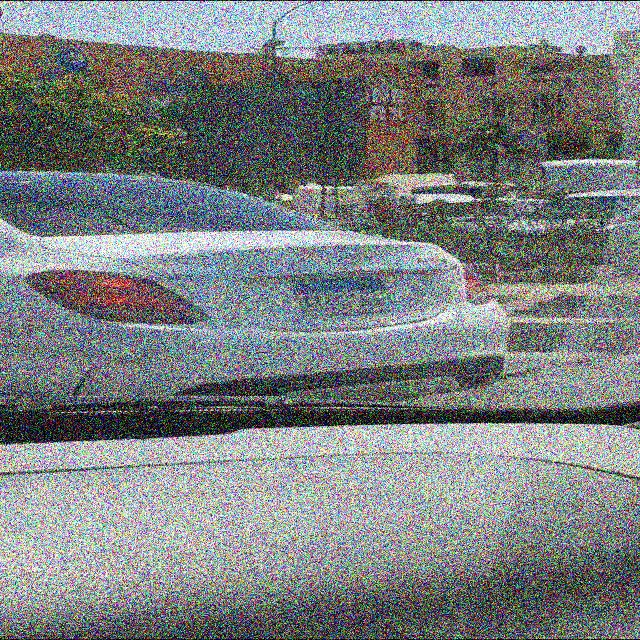License Plate: (291, 273, 396, 319)
